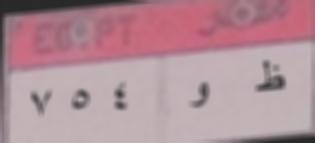4: (105, 76, 140, 123)
5: (68, 76, 99, 126)
7: (23, 89, 60, 127)
Thaa: (250, 53, 288, 103)
waw: (182, 78, 215, 116)
